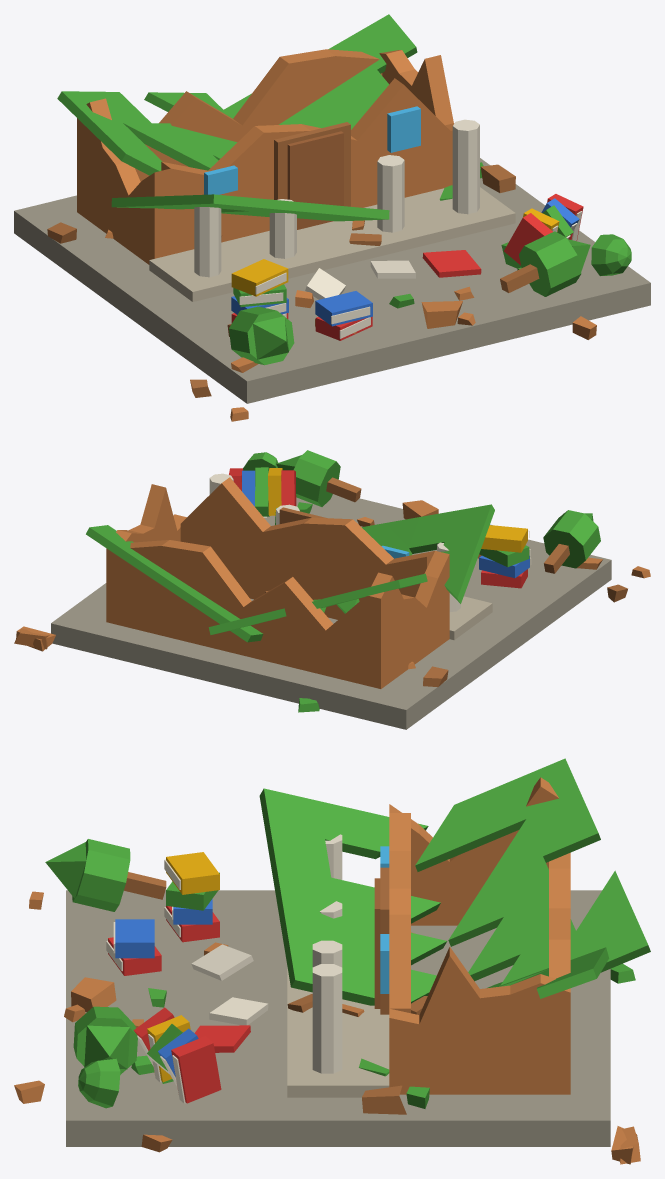
The model's file is library_t2_v2_dmg2.glb.
3 renders of one model, top to bottom at view 1: azimuth 30°, elevation 25°; view 2: azimuth 150°, elevation 25°; view 3: azimuth 270°, elevation 25°, orthographic. The views are drawn at different scales.
Parts seen in each view (by area): view 1: library_t2_v2_dmg2; view 2: library_t2_v2_dmg2; view 3: library_t2_v2_dmg2.
Part boxes in pixels (x1,y1,x2,y2): library_t2_v2_dmg2: (14, 14, 650, 421); library_t2_v2_dmg2: (14, 450, 650, 729); library_t2_v2_dmg2: (14, 758, 650, 1164).
Size of the model in its own units: 0.876 by 0.265 by 0.8768.
1 material, 1 textured.
